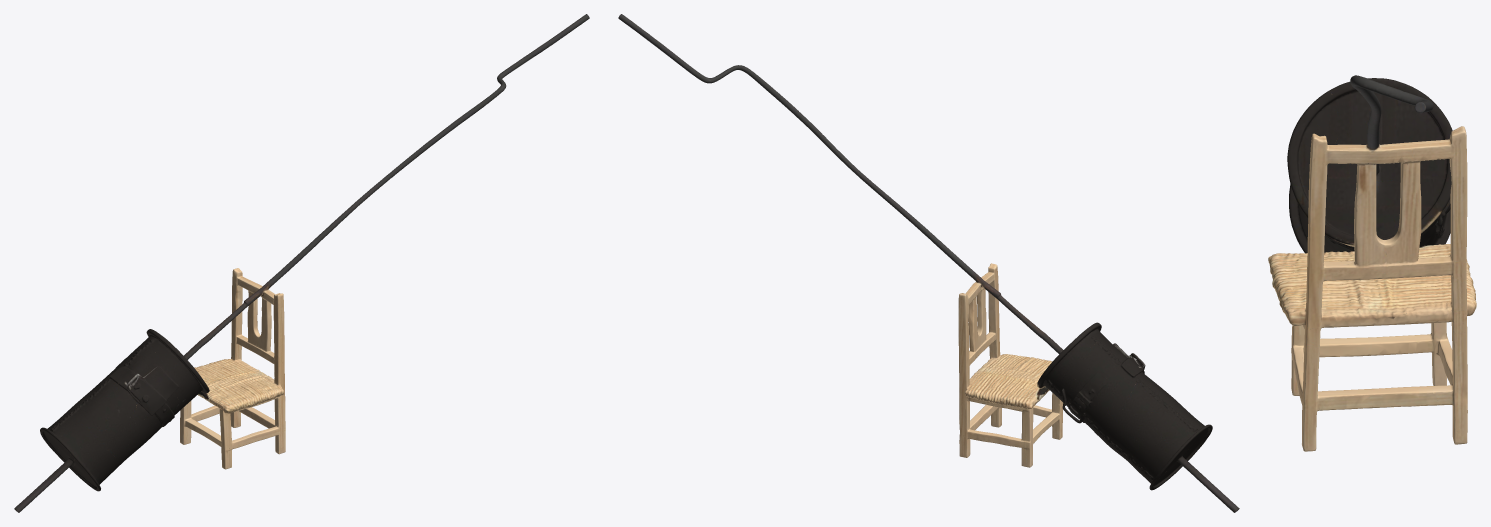
Rendered from przionik.glb.
3 renders of one model, left to right at view 1: azimuth 30°, elevation 25°; view 2: azimuth 150°, elevation 25°; view 3: azimuth 270°, elevation 25°, orthographic. The views are drawn at different scales.
Bounding box in the file's own units: 1.9 × 1.08 × 0.2929.
1 material, 1 textured.
